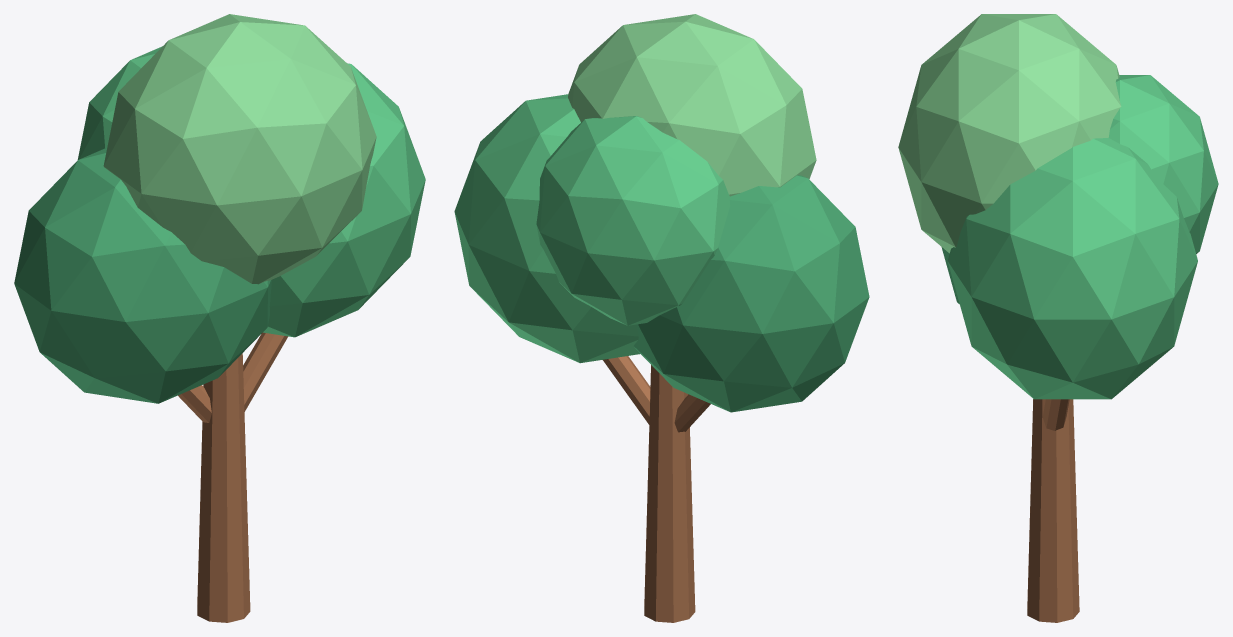
Rendered from tree_round.glb.
The picture shows the model from 3 angles, left to right: view 1: azimuth 30°, elevation 25°; view 2: azimuth 150°, elevation 25°; view 3: azimuth 270°, elevation 25°; orthographic projection. The views are drawn at different scales.
Visible parts, largest first — view 1: tree_round__Faceted crown.002, tree_round__Faceted crown, tree_round__Faceted crown.001, tree_round__Trunk, tree_round__Faceted crown.003, tree_round__Branch.001, tree_round__Branch; view 2: tree_round__Faceted crown, tree_round__Faceted crown.003, tree_round__Faceted crown.002, tree_round__Faceted crown.001, tree_round__Trunk, tree_round__Branch.001, tree_round__Branch; view 3: tree_round__Faceted crown.001, tree_round__Faceted crown.002, tree_round__Trunk, tree_round__Faceted crown.003, tree_round__Branch.001.
Part boxes in pixels (x1=…): tree_round__Faceted crown.002: x1=103, y1=14, x2=376, y2=284; tree_round__Faceted crown: x1=14, y1=147, x2=271, y2=403; tree_round__Faceted crown.001: x1=263, y1=63, x2=425, y2=337; tree_round__Trunk: x1=197, y1=353, x2=250, y2=622; tree_round__Faceted crown.003: x1=77, y1=46, x2=162, y2=159; tree_round__Branch.001: x1=243, y1=332, x2=288, y2=411; tree_round__Branch: x1=178, y1=385, x2=211, y2=422; tree_round__Faceted crown: x1=634, y1=175, x2=869, y2=412; tree_round__Faceted crown.003: x1=536, y1=116, x2=730, y2=325; tree_round__Faceted crown.002: x1=568, y1=14, x2=816, y2=196; tree_round__Faceted crown.001: x1=454, y1=94, x2=639, y2=363; tree_round__Trunk: x1=644, y1=365, x2=695, y2=622; tree_round__Branch.001: x1=603, y1=356, x2=650, y2=424; tree_round__Branch: x1=674, y1=394, x2=710, y2=432; tree_round__Faceted crown.001: x1=947, y1=138, x2=1197, y2=399; tree_round__Faceted crown.002: x1=898, y1=14, x2=1121, y2=253; tree_round__Trunk: x1=1027, y1=399, x2=1079, y2=622; tree_round__Faceted crown.003: x1=1108, y1=75, x2=1218, y2=253; tree_round__Branch.001: x1=1042, y1=399, x2=1069, y2=430.
Size of the model in its own units: 0.6454 by 0.968 by 0.4751.
